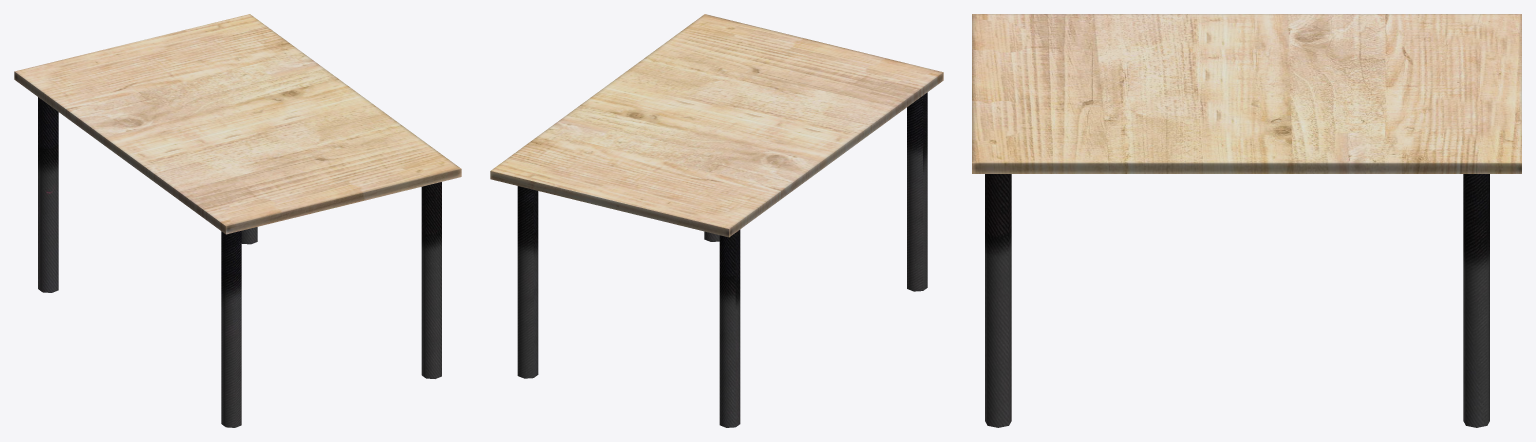
File: Mesa.FBX
The picture shows the model from 3 angles, left to right: view 1: azimuth 30°, elevation 25°; view 2: azimuth 150°, elevation 25°; view 3: azimuth 270°, elevation 25°; orthographic projection. The views are drawn at different scales.
Parts seen in each view (by area): view 1: Box001; view 2: Box001; view 3: Box001.
Part boxes in pixels (x1=…): Box001: x1=14, y1=14, x2=461, y2=427; Box001: x1=490, y1=14, x2=943, y2=427; Box001: x1=972, y1=14, x2=1521, y2=427.
Bounding box in the file's own units: 90 × 76.19 × 140.
